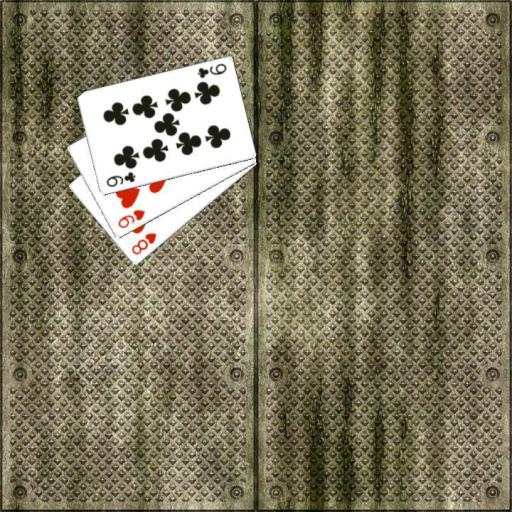8H: (128, 230, 158, 257)
9C: (103, 169, 137, 189), (194, 61, 228, 80)
9H: (115, 207, 147, 230)
